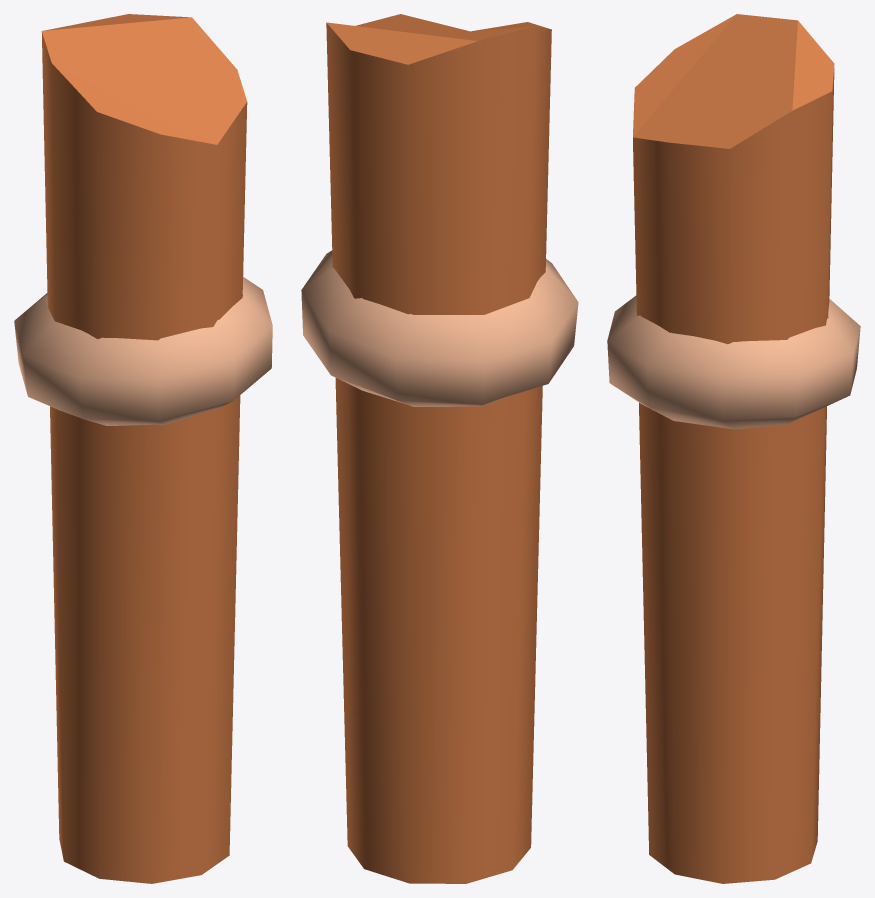
Rendered from Pillar.fbx.
The picture shows the model from 3 angles, left to right: view 1: azimuth 30°, elevation 25°; view 2: azimuth 150°, elevation 25°; view 3: azimuth 270°, elevation 25°; orthographic projection. The views are drawn at different scales.
Visible parts, largest first — view 1: Pillar; view 2: Pillar; view 3: Pillar.
Boxes of the visible parts, x1=… form: Pillar: x1=14, y1=14, x2=272, y2=883; Pillar: x1=301, y1=14, x2=578, y2=883; Pillar: x1=607, y1=14, x2=860, y2=883.
Bounding box in the file's own units: 44.77 × 152 × 43.98.
